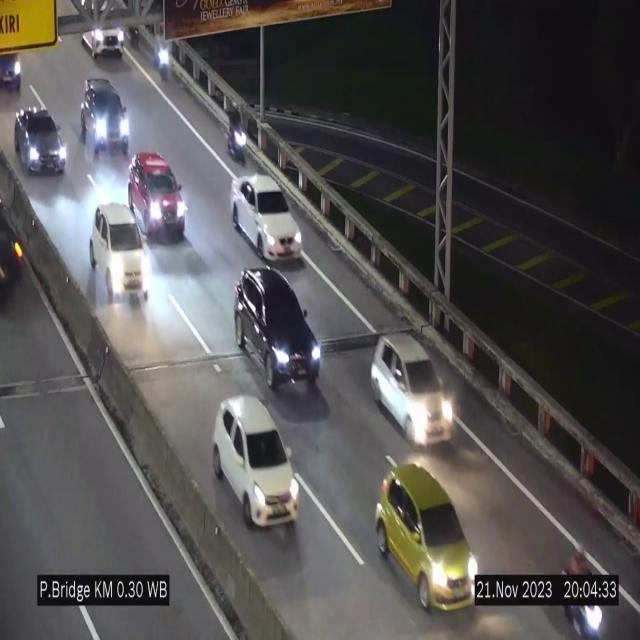Car: (375, 460, 479, 612), (234, 265, 324, 399), (213, 397, 299, 527), (370, 332, 456, 442), (88, 202, 154, 308), (231, 174, 303, 260), (129, 152, 185, 240), (81, 74, 129, 160), (15, 105, 66, 172)
Motorcycle: (556, 523, 607, 640), (227, 102, 248, 166), (155, 26, 177, 84)
